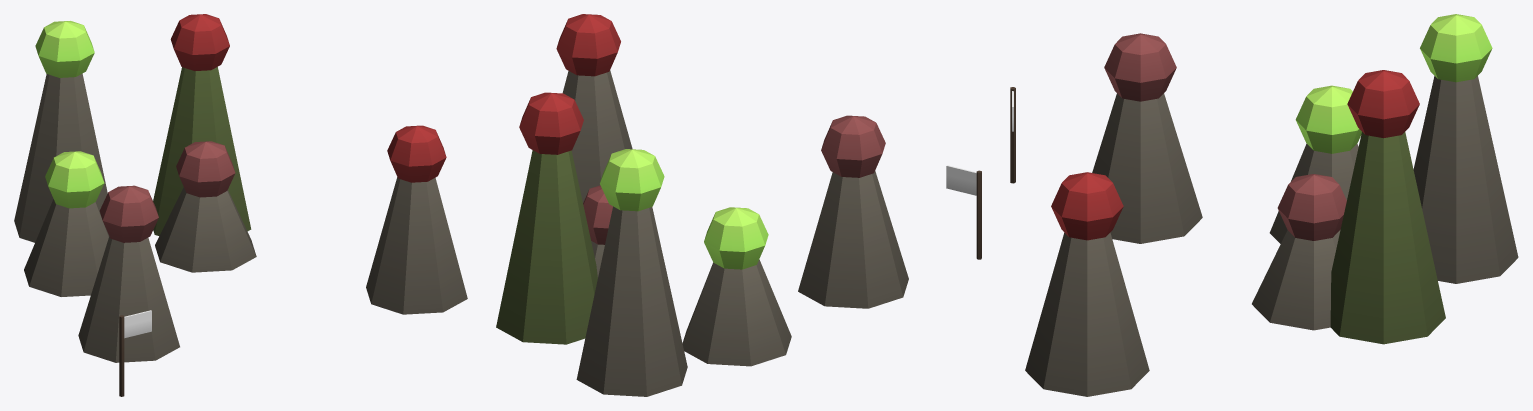
The model's file is ALCHEMY.glb.
3 renders of one model, left to right at view 1: azimuth 30°, elevation 25°; view 2: azimuth 150°, elevation 25°; view 3: azimuth 270°, elevation 25°, orthographic. The views are drawn at different scales.
Visible parts, largest first — view 1: Body, Flag; view 2: Body, Flag; view 3: Body.
Boxes of the visible parts, x1=… form: Body: x1=14, y1=14, x2=467, y2=396; Flag: x1=124, y1=310, x2=151, y2=338; Body: x1=496, y1=14, x2=981, y2=396; Flag: x1=946, y1=165, x2=976, y2=195; Body: x1=1010, y1=14, x2=1518, y2=396.
Size of the model in its own units: 4.92 by 2.62 by 4.89.
1 material, 1 textured.
